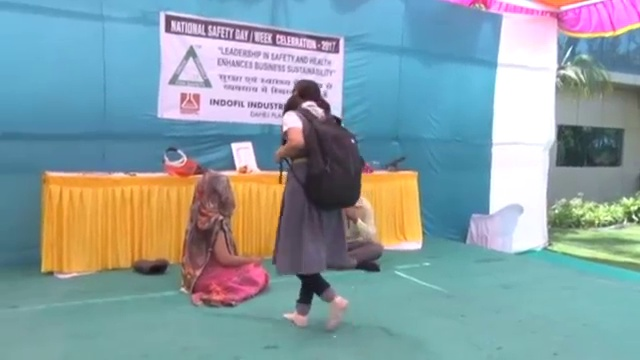helmet_off: (193, 173, 235, 216), (291, 78, 323, 104)
person: (273, 78, 363, 334), (180, 173, 268, 307), (334, 191, 384, 272)
